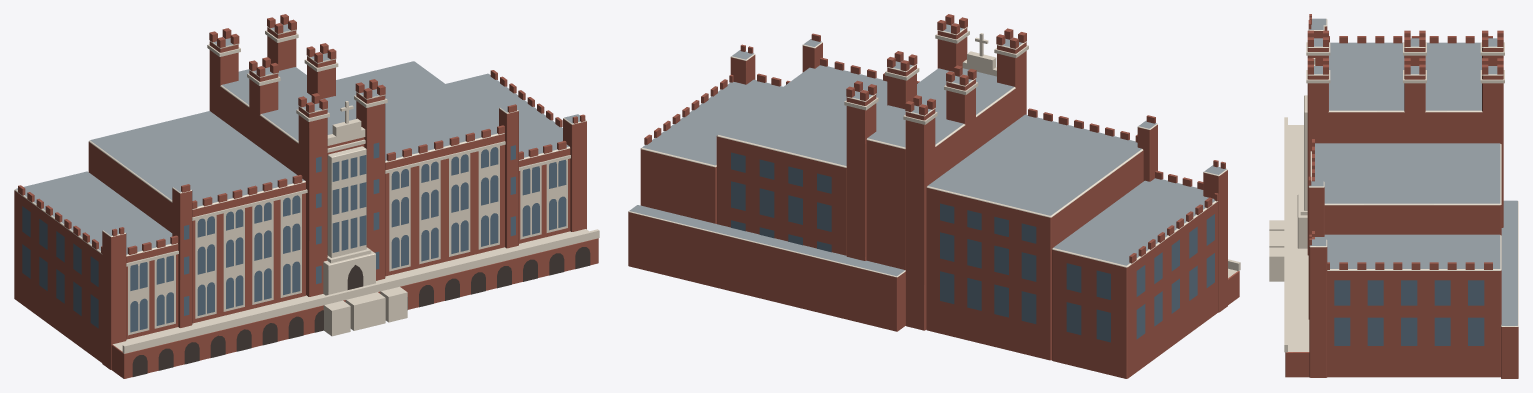
Rendered from nola-marquette-hall.glb.
3 renders of one model, left to right at view 1: azimuth 30°, elevation 25°; view 2: azimuth 150°, elevation 25°; view 3: azimuth 270°, elevation 25°, orthographic. The views are drawn at different scales.
Visible parts, largest first — view 1: Marquette Hall; view 2: Marquette Hall; view 3: Marquette Hall.
Part boxes in pixels (bbox=[...]): Marquette Hall: bbox=[14, 14, 599, 378]; Marquette Hall: bbox=[628, 14, 1240, 378]; Marquette Hall: bbox=[1269, 14, 1518, 378].
Size of the model in its own units: 60.7 by 26.3 by 27.9.
